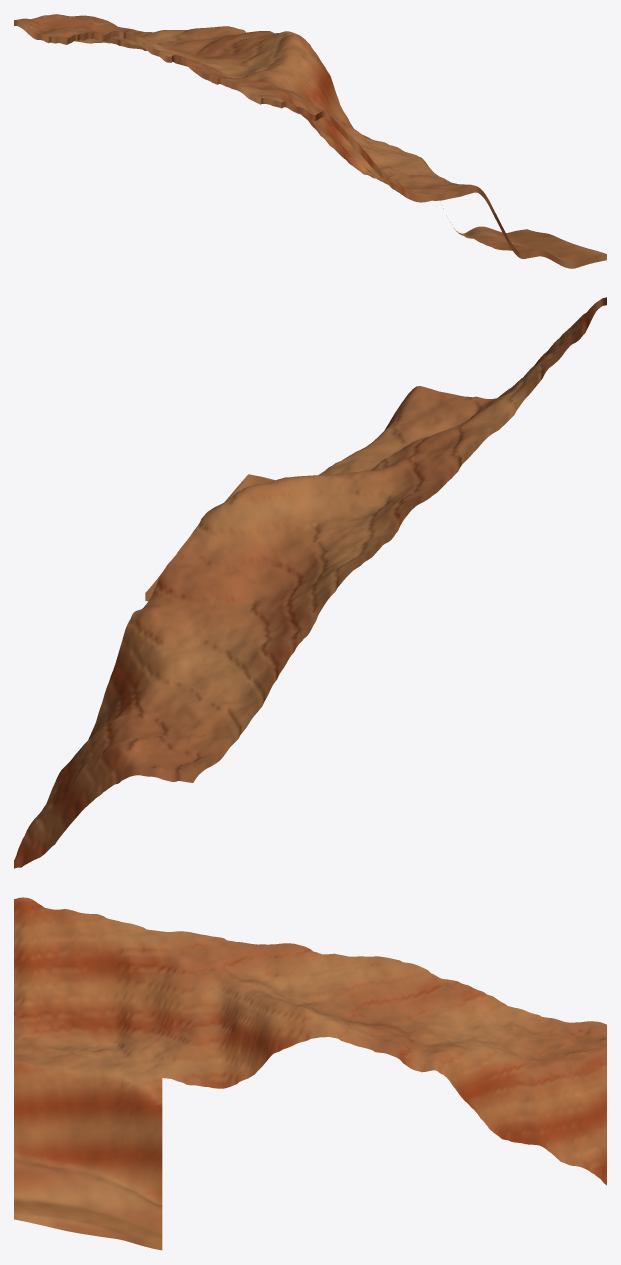
Rendered from terrain-003.glb.
The picture shows the model from 3 angles, top to bottom: view 1: azimuth 30°, elevation 25°; view 2: azimuth 150°, elevation 25°; view 3: azimuth 270°, elevation 25°; orthographic projection. The views are drawn at different scales.
Visible parts, largest first — view 1: terrain-003; view 2: terrain-003; view 3: terrain-003.
Part boxes in pixels (left/top/right/bottom): terrain-003: left=14, top=14, right=606, bottom=268; terrain-003: left=14, top=297, right=606, bottom=868; terrain-003: left=14, top=897, right=606, bottom=1250.
Bounding box in the file's own units: 192 × 163 × 384.
